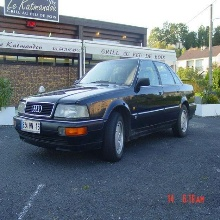no damage: (13, 56, 197, 162)
